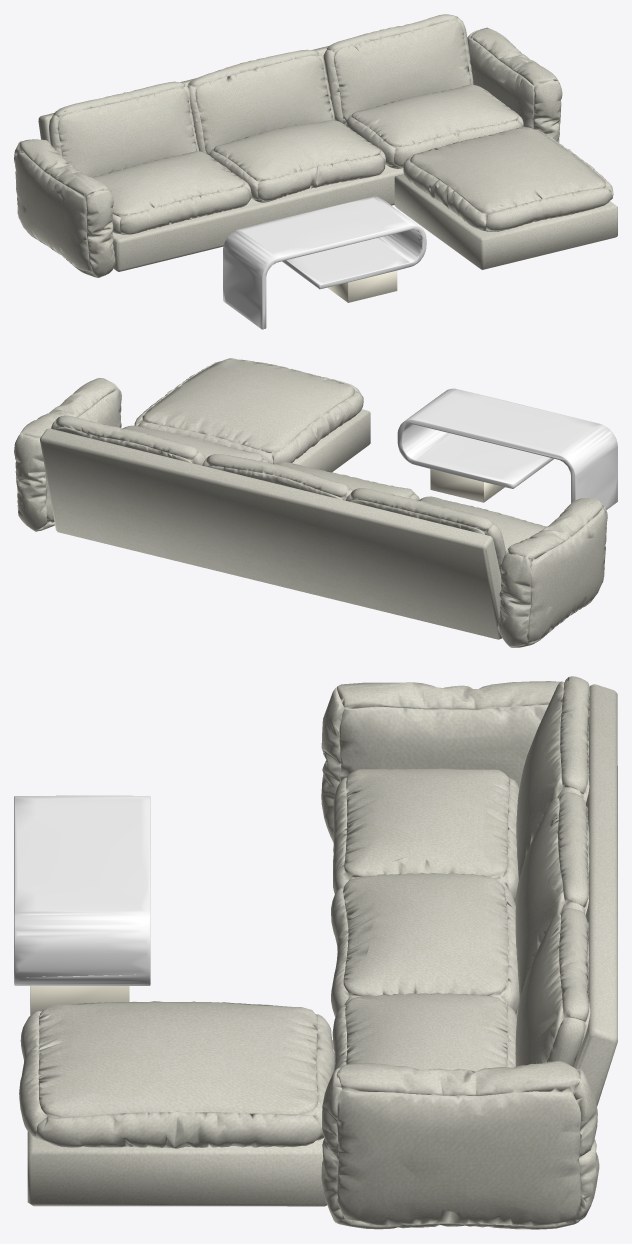
Rendered from furniture.glb.
3 renders of one model, top to bottom at view 1: azimuth 30°, elevation 25°; view 2: azimuth 150°, elevation 25°; view 3: azimuth 270°, elevation 25°, orthographic. The views are drawn at different scales.
Parts seen in each view (by area): view 1: G-Group34294, G-Group44310, G-Line001, G-ChamferBox001, G-Box001; view 2: G-Group34294, G-Line001, G-Group44310, G-ChamferBox001, G-Box001; view 3: G-Group34294, G-Group44310, G-Line001, G-ChamferBox001, G-Box001.
Boxes of the visible parts, box(x1,y1,x2,y2) form: G-Group34294: box(14, 14, 562, 277); G-Group44310: box(403, 126, 613, 231); G-Line001: box(223, 196, 426, 329); G-ChamferBox001: box(394, 174, 617, 269); G-Box001: box(327, 270, 397, 302); G-Group34294: box(14, 378, 607, 647); G-Line001: box(397, 388, 617, 509); G-Group44310: box(134, 358, 363, 464); G-ChamferBox001: box(292, 409, 370, 472); G-Box001: box(430, 469, 504, 502); G-Group34294: box(321, 676, 617, 1229); G-Group44310: box(19, 1001, 334, 1148); G-Line001: box(14, 795, 150, 985); G-ChamferBox001: box(27, 1039, 333, 1206); G-Box001: box(30, 986, 129, 1015).
Bounding box in the file's own units: 0.5749 × 0.1276 × 0.3541.
Materials: 3 (1 with a texture image).
